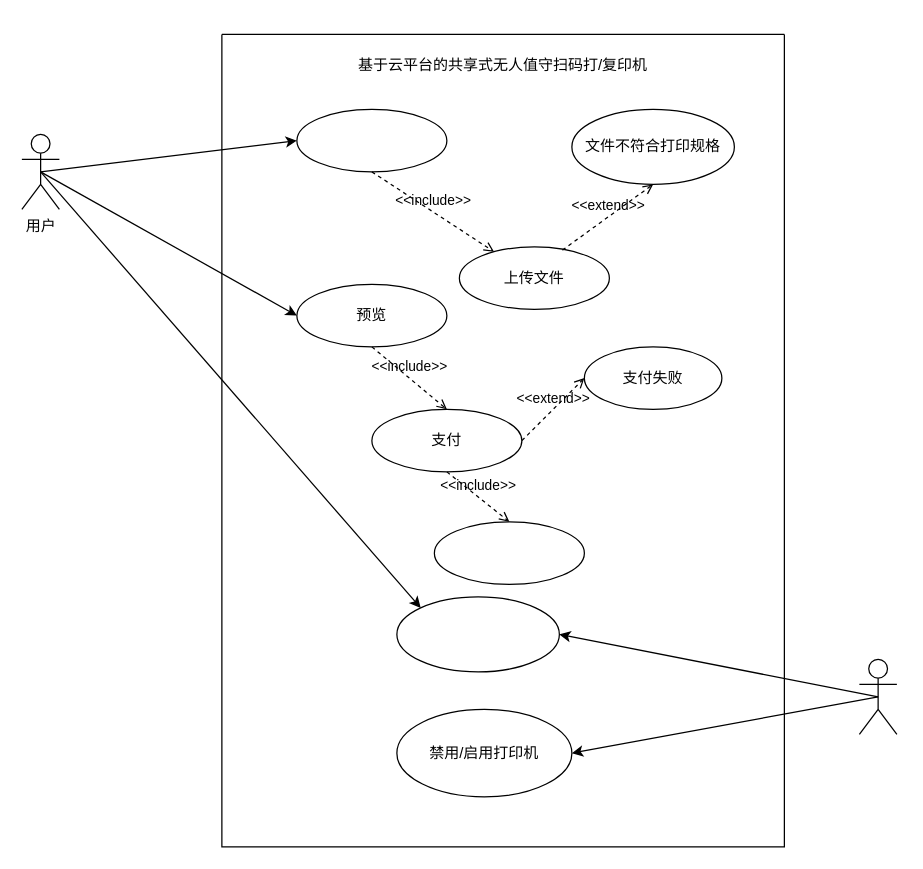
This 923x869 diagram has some shape labels left out. The shapes that lost their labels are listed below. From the top down, each one's box as (x1, y1, x2, y2) in pixels, then its label:
(296, 108, 447, 172): 扫码
(433, 521, 584, 584): 交付
(396, 596, 559, 672): 查看打印机情况
(858, 658, 897, 734): 管理员
